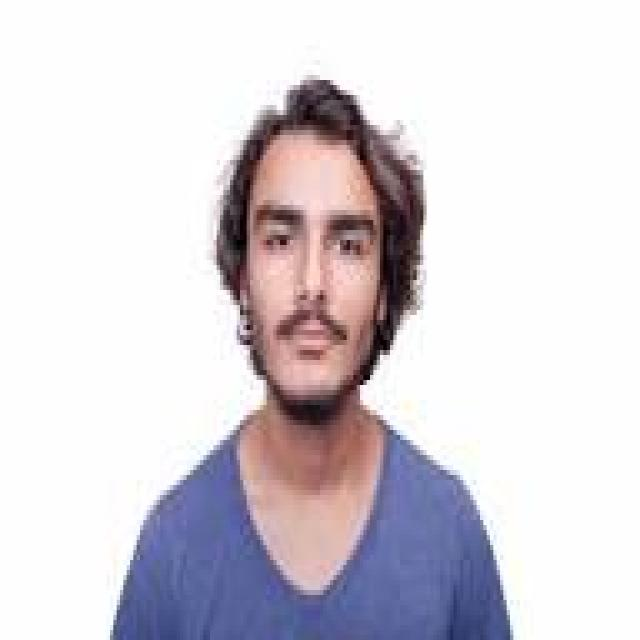sem_oculos: (240, 182, 404, 282)
